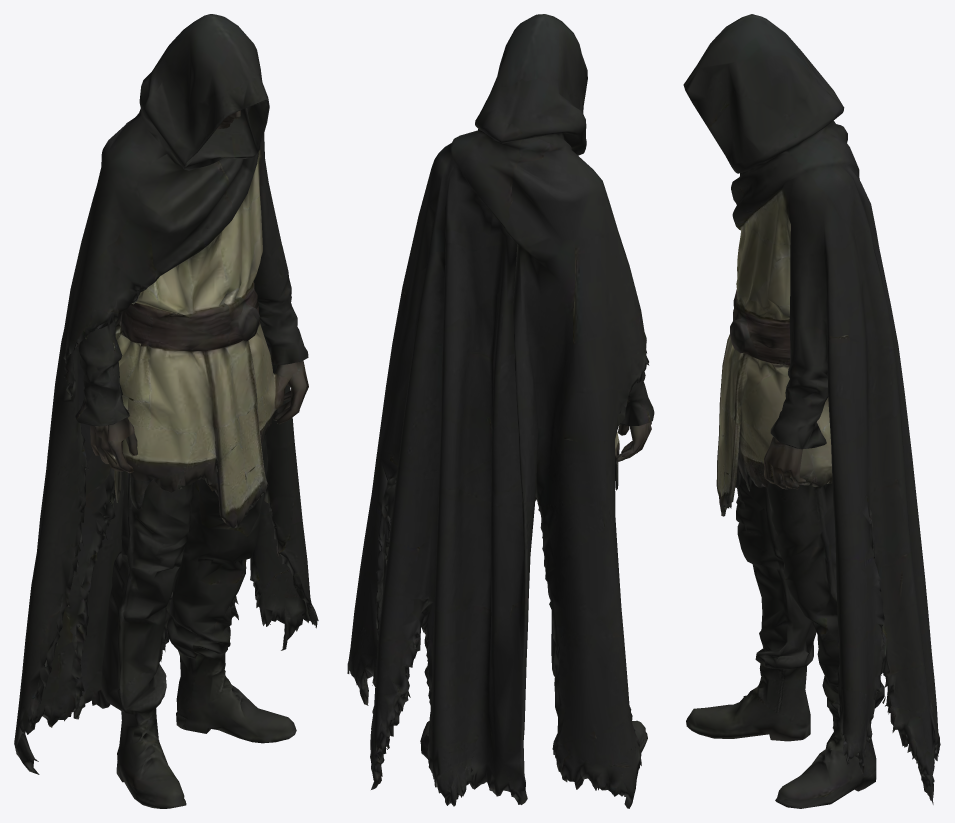
File: hooded_figure.glb
The picture shows the model from 3 angles, left to right: view 1: azimuth 30°, elevation 25°; view 2: azimuth 150°, elevation 25°; view 3: azimuth 270°, elevation 25°; orthographic projection. The views are drawn at different scales.
Size of the model in its own units: 0.7842 by 1.9 by 0.5913.
1 material, 1 textured.
